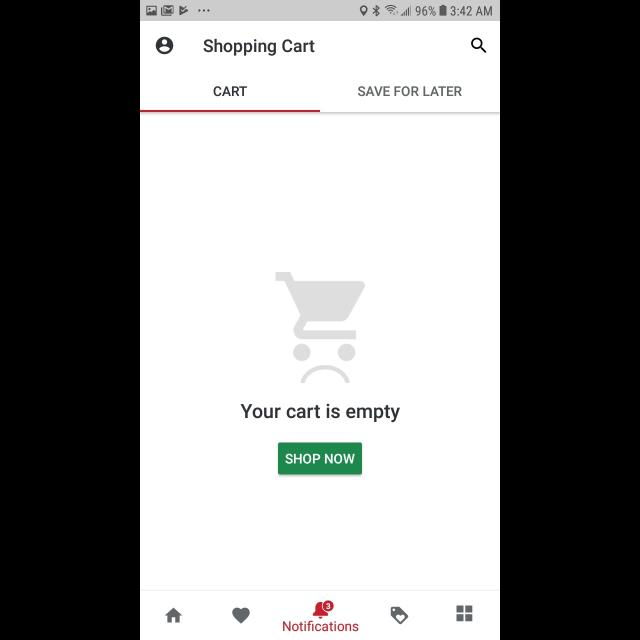icon: (312, 600, 333, 620), (391, 606, 409, 624), (156, 37, 174, 55), (232, 607, 250, 623), (456, 606, 472, 622), (471, 38, 487, 54), (165, 608, 182, 622)
image: (275, 272, 365, 383)
text: (240, 403, 400, 422), (203, 40, 314, 56), (358, 86, 462, 98), (283, 620, 359, 632), (213, 86, 247, 98)
textbutton: (278, 443, 362, 475)
uppertaskbar: (140, 1, 500, 22)
